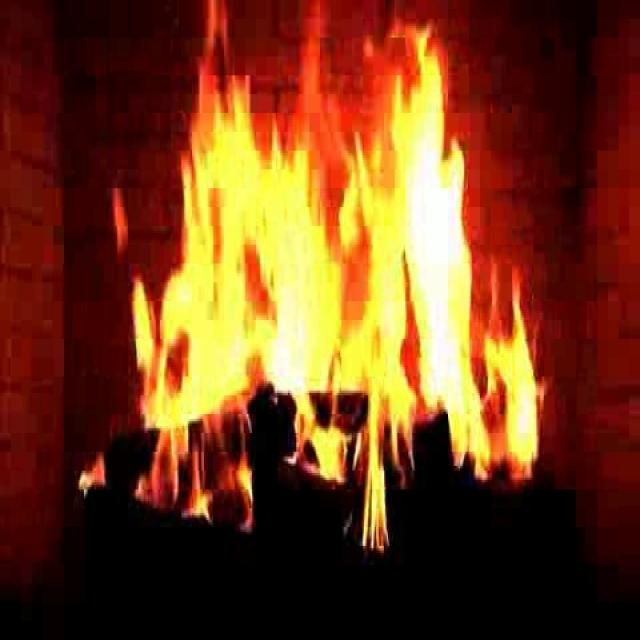fire: (111, 26, 527, 538)
